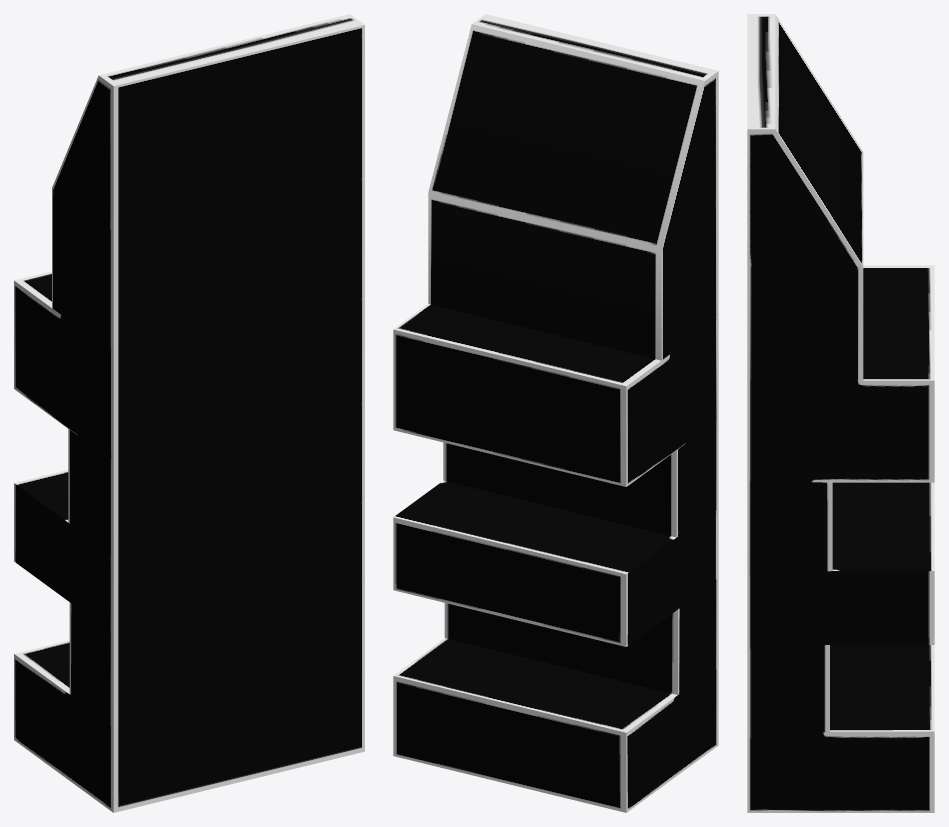
Rendered from Obstacle8.fbx.
3 renders of one model, left to right at view 1: azimuth 30°, elevation 25°; view 2: azimuth 150°, elevation 25°; view 3: azimuth 270°, elevation 25°, orthographic. The views are drawn at different scales.
Visible parts, largest first — view 1: Object34; view 2: Object34; view 3: Object34.
Part boxes in pixels (left/top/right/bottom): Object34: left=14, top=14, right=364, bottom=812; Object34: left=393, top=14, right=718, bottom=812; Object34: left=747, top=14, right=934, bottom=812.
Size of the model in its own units: 5.83 by 16.12 by 4.
1 material, 1 textured.
